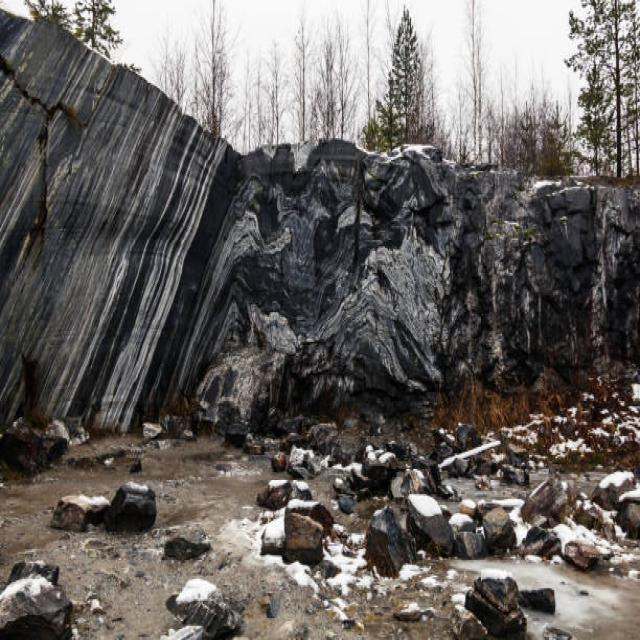Metamorphic: (1, 8, 640, 403)
